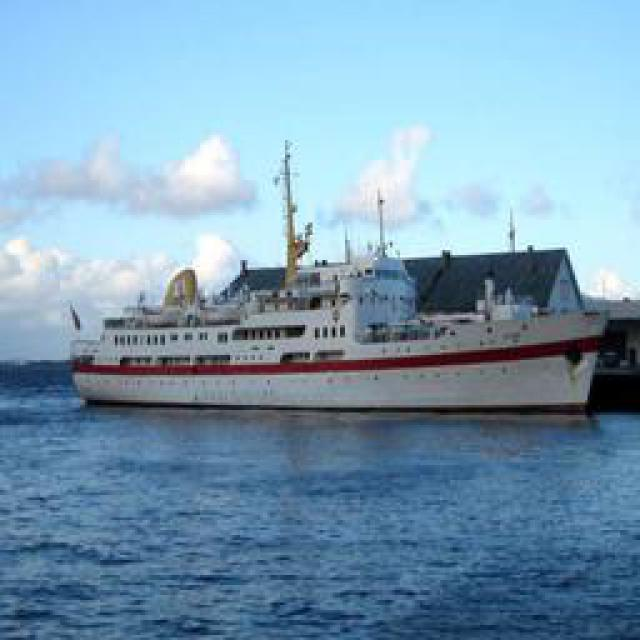Ship: (75, 235, 625, 418)
